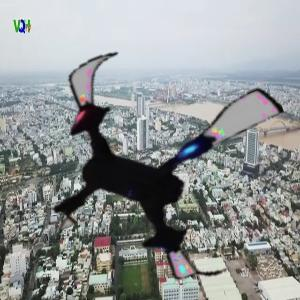drone: (30, 29, 295, 294)
